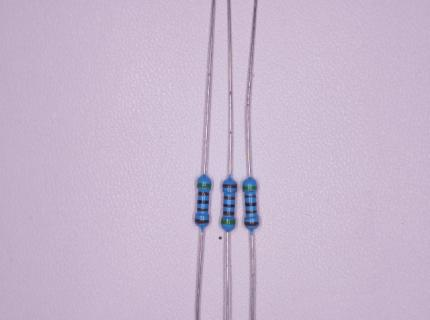Black band: (197, 200, 209, 205), (245, 202, 256, 207), (223, 203, 234, 207)
Brown band: (195, 219, 209, 224), (223, 184, 237, 189), (245, 221, 259, 226), (223, 211, 234, 216), (223, 196, 235, 200), (246, 209, 257, 213), (197, 207, 208, 211), (198, 192, 208, 196), (245, 195, 256, 198)
Green band: (221, 219, 235, 225), (197, 183, 211, 188), (243, 186, 257, 190)
